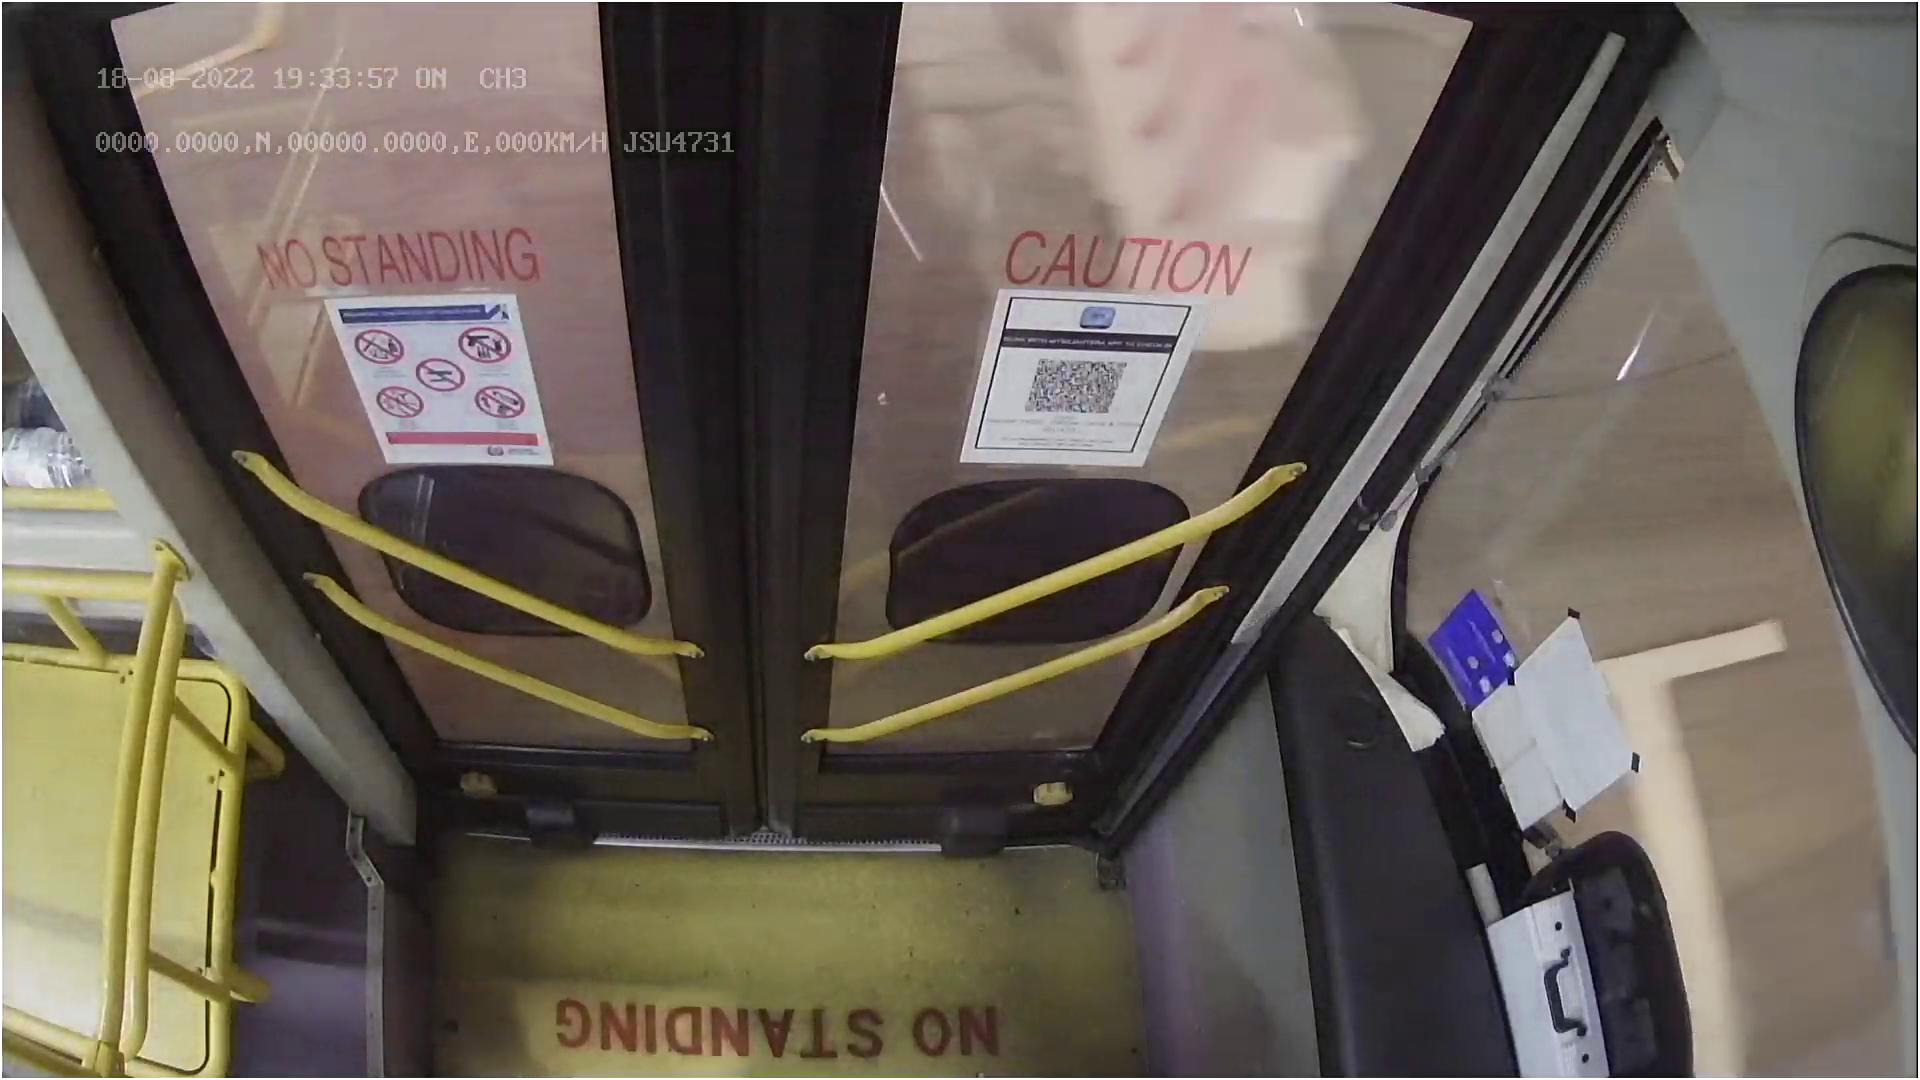close: (128, 0, 1441, 164)
